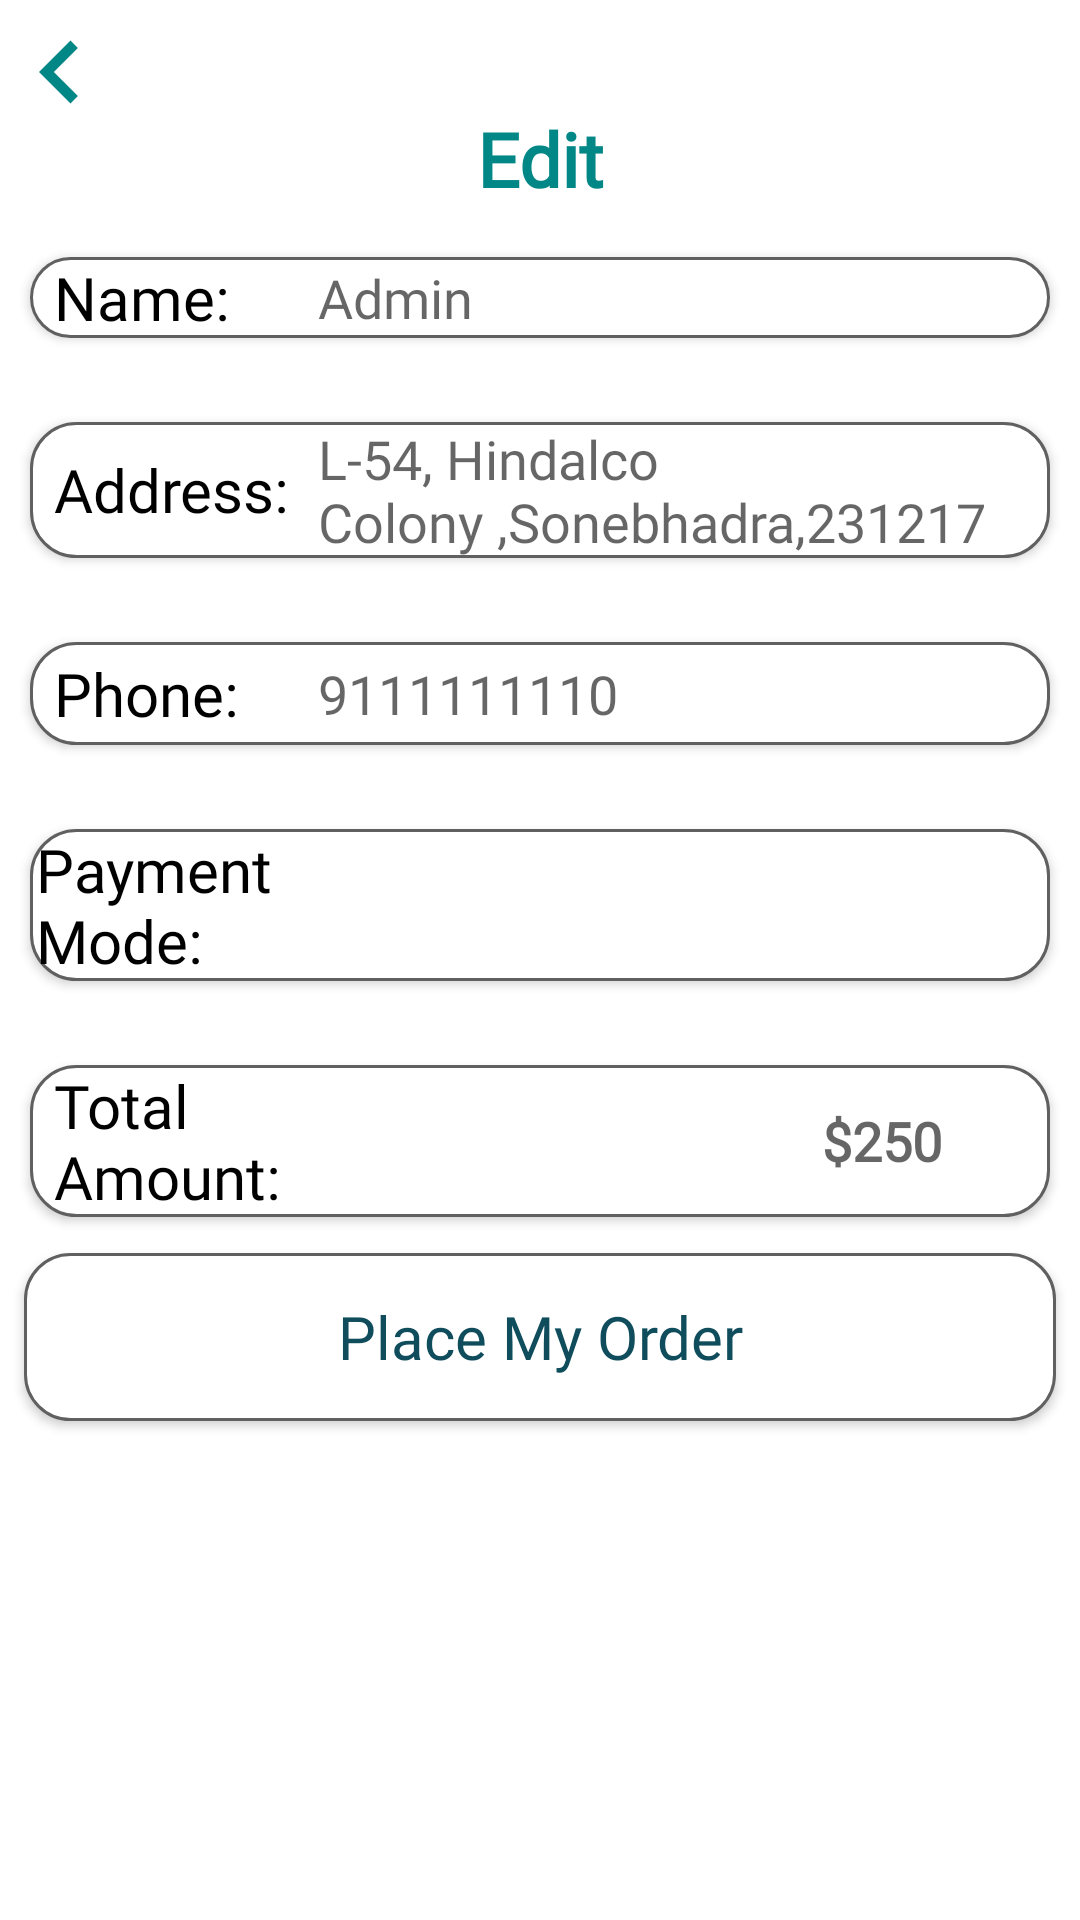

Icon bounding boxes for this 1080x1920 phone screenshot, format box=[x1, y1, x2, y2]:
keyboard arrow left: box=[39, 40, 78, 104]
